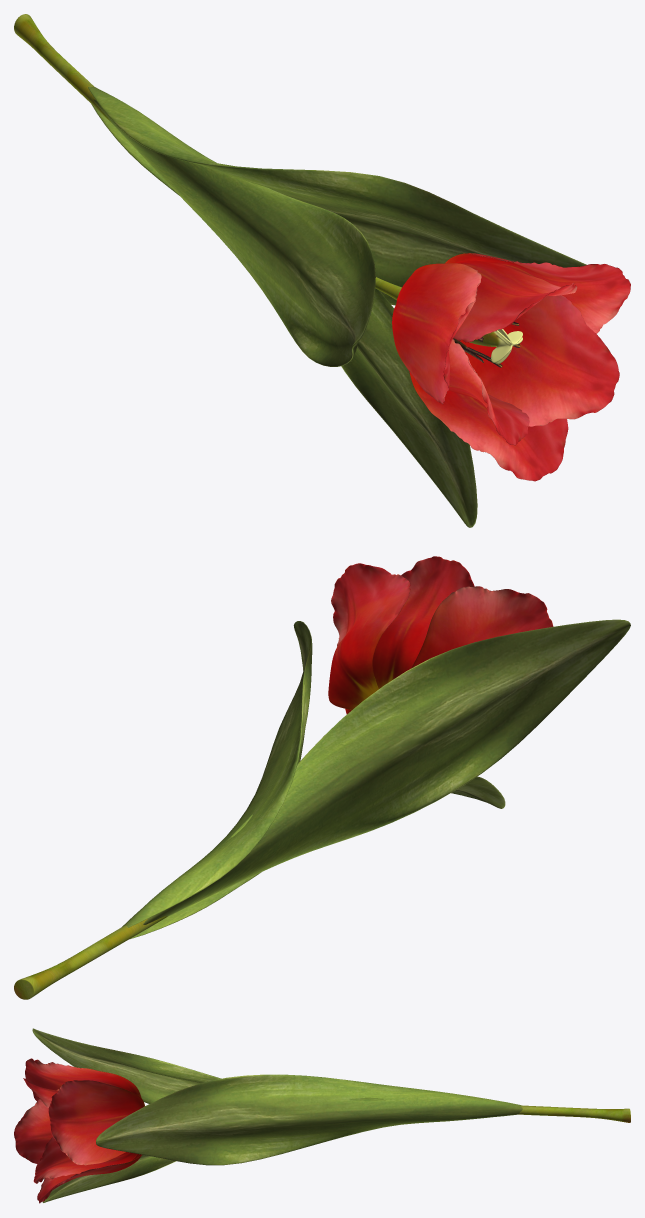
The model's file is 12978_tulip_flower_l3.obj.
The picture shows the model from 3 angles, top to bottom: view 1: azimuth 30°, elevation 25°; view 2: azimuth 150°, elevation 25°; view 3: azimuth 270°, elevation 25°; orthographic projection. The views are drawn at different scales.
Visible parts, largest first — view 1: leaf3, leaf2, petal6, leaf, petal5, petal2, petal4, petal3, stalk, petal; view 2: leaf3, leaf2, petal3, petal5, petal4, stalk, leaf; view 3: leaf2, petal3, leaf3, petal5, leaf, petal, petal6, stalk, petal2, petal4.
Boxes of the visible parts, x1,y1,x2,y2 form: leaf3: [93, 99, 375, 366]; leaf2: [88, 86, 586, 305]; petal6: [460, 295, 619, 426]; leaf: [341, 288, 477, 527]; petal5: [392, 263, 481, 404]; petal2: [409, 372, 568, 481]; petal4: [453, 260, 577, 342]; petal3: [445, 253, 630, 333]; stalk: [14, 14, 522, 363]; petal: [448, 339, 529, 445]; leaf3: [143, 619, 630, 924]; leaf2: [122, 621, 312, 939]; petal3: [328, 563, 410, 709]; petal5: [411, 586, 553, 668]; petal4: [372, 556, 474, 688]; stalk: [14, 916, 167, 999]; leaf: [451, 776, 505, 808]; leaf2: [96, 1074, 522, 1165]; petal3: [48, 1080, 144, 1165]; leaf3: [32, 1028, 386, 1103]; petal5: [25, 1058, 141, 1101]; leaf: [42, 1154, 176, 1202]; petal: [14, 1089, 58, 1163]; petal6: [33, 1137, 137, 1183]; stalk: [518, 1105, 630, 1122]; petal2: [37, 1154, 141, 1203]; petal4: [23, 1078, 125, 1107].
Size of the model in its own units: 5.89 by 4.41 by 16.89.
Materials: 3 (3 with a texture image).
